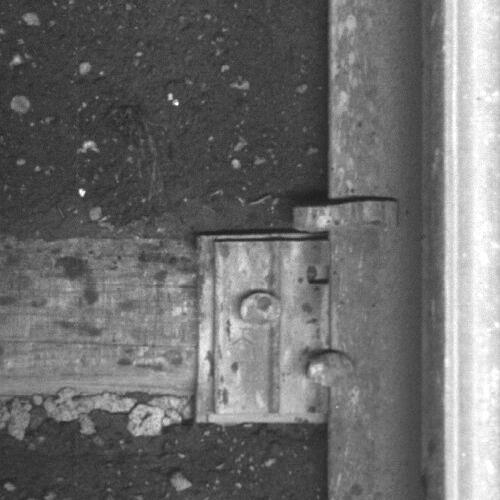crutch: (292, 194, 400, 231)
do: (214, 238, 355, 415)
rail: (443, 1, 500, 500)
tie_wood: (1, 237, 323, 391)
